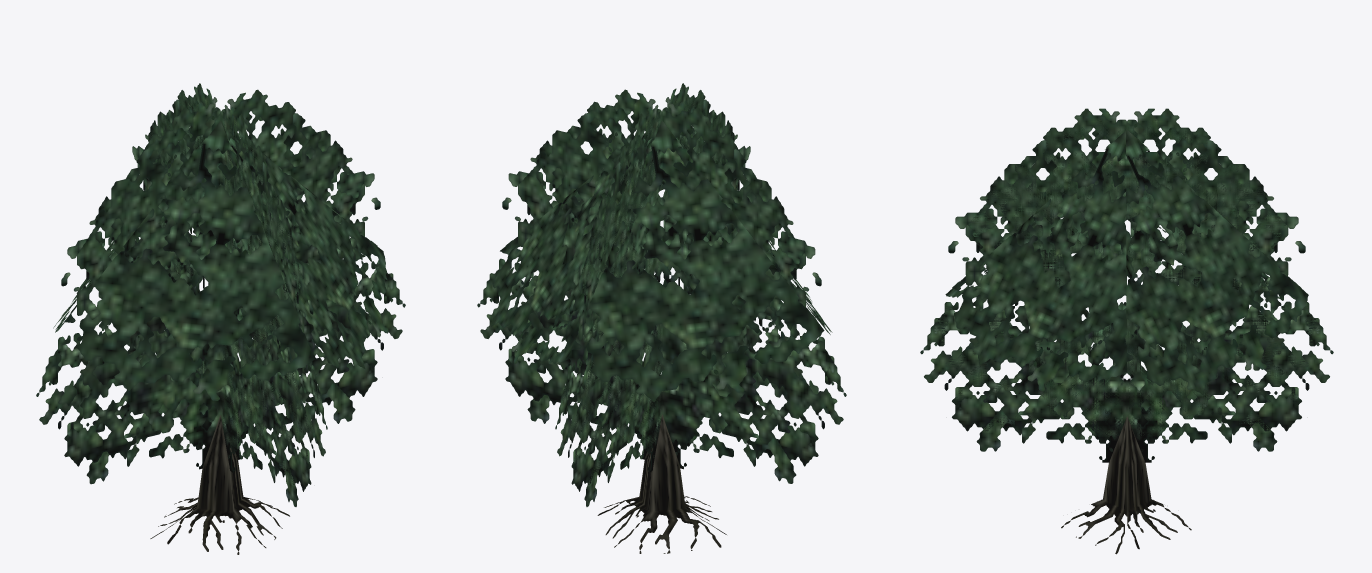
File: oak1.glb
3 views of the same model, side by side, from view 1: azimuth 30°, elevation 25°; view 2: azimuth 150°, elevation 25°; view 3: azimuth 270°, elevation 25° (orthographic). The views are drawn at different scales.
Parts seen in each view (by area): view 1: Box02; view 2: Box02; view 3: Box02.
Boxes of the visible parts, box(x1,y1,x2,y2) form: Box02: box(36, 83, 405, 554); Box02: box(477, 83, 846, 553); Box02: box(920, 108, 1333, 554).
Size of the model in its own units: 10.62 by 10.55 by 10.62.
Materials: 1 (1 with a texture image).
